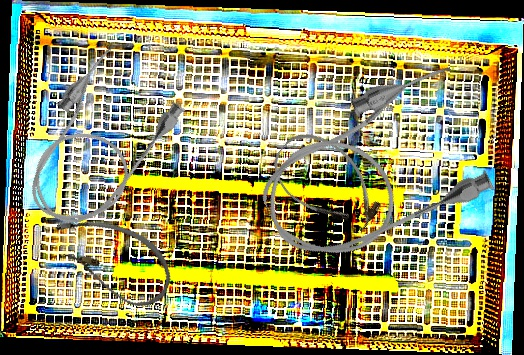Cannula: (239, 52, 507, 284), (1, 37, 194, 246), (260, 119, 395, 247), (40, 206, 182, 315)
